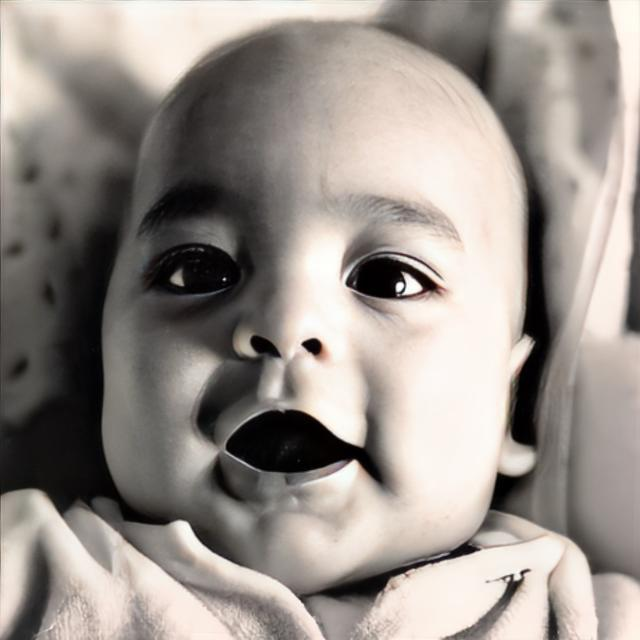surprise: (98, 20, 524, 598)
